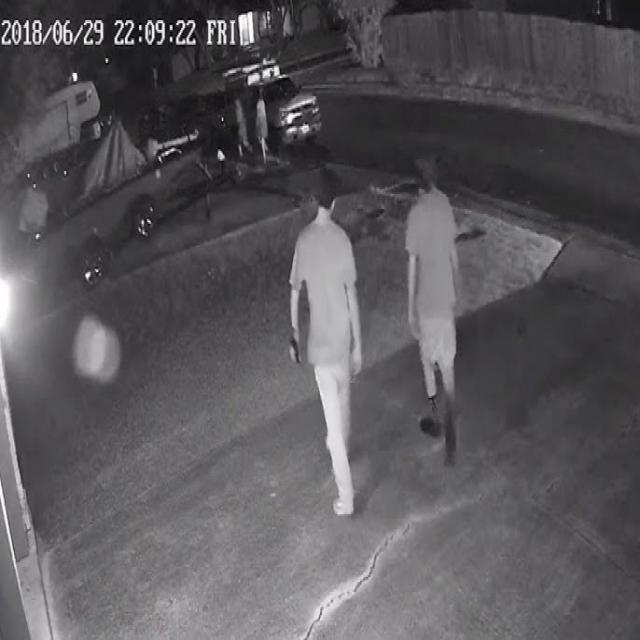standing: (290, 194, 361, 514), (406, 158, 456, 463)
